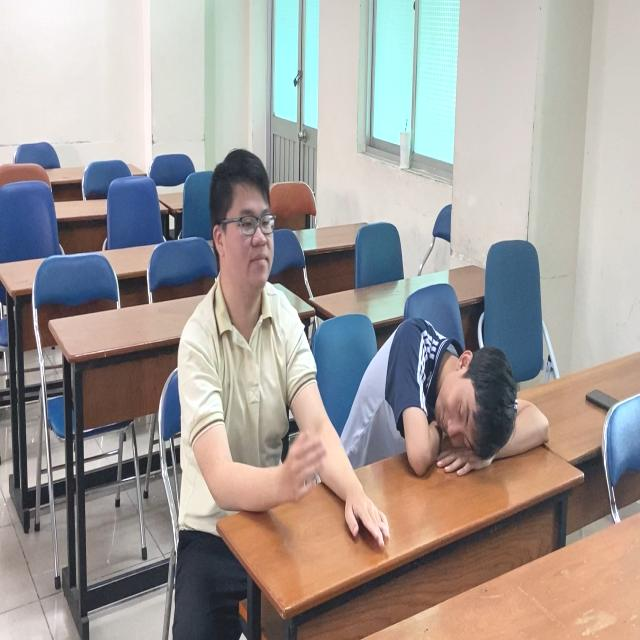sleep: (349, 301, 556, 504)
